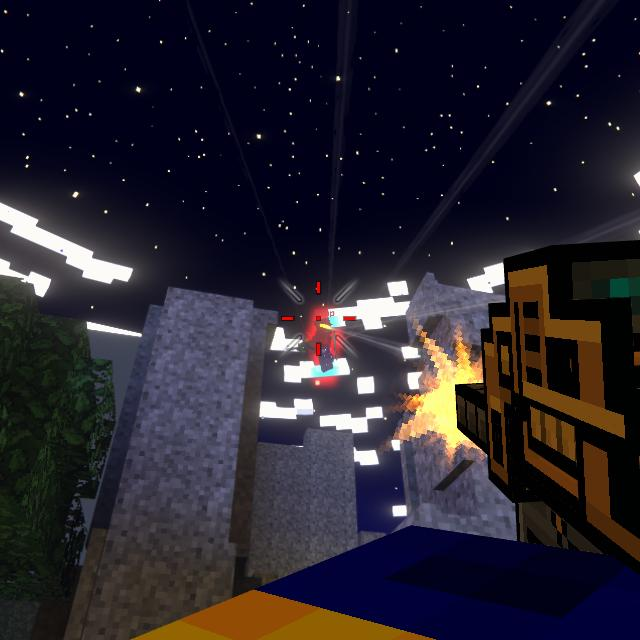Enemy: (311, 319, 338, 373)
